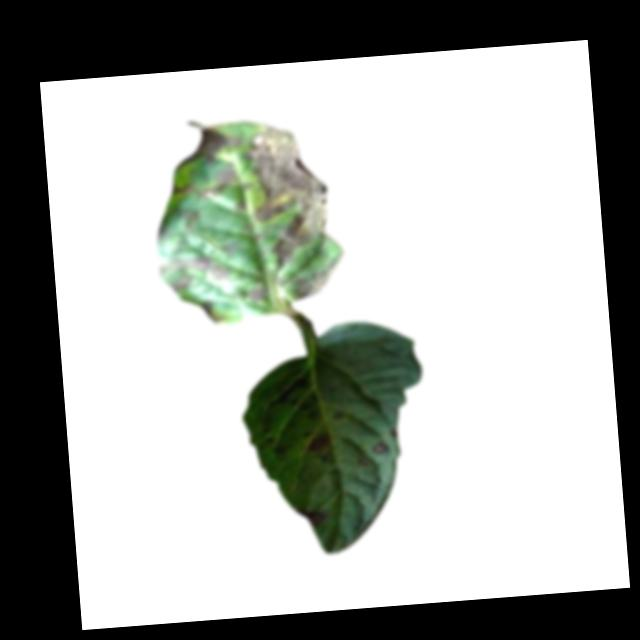Early_blight: (247, 120, 332, 269), (175, 117, 244, 166), (287, 254, 349, 304), (157, 255, 229, 293), (170, 164, 241, 201), (247, 284, 271, 303), (371, 441, 389, 456)
